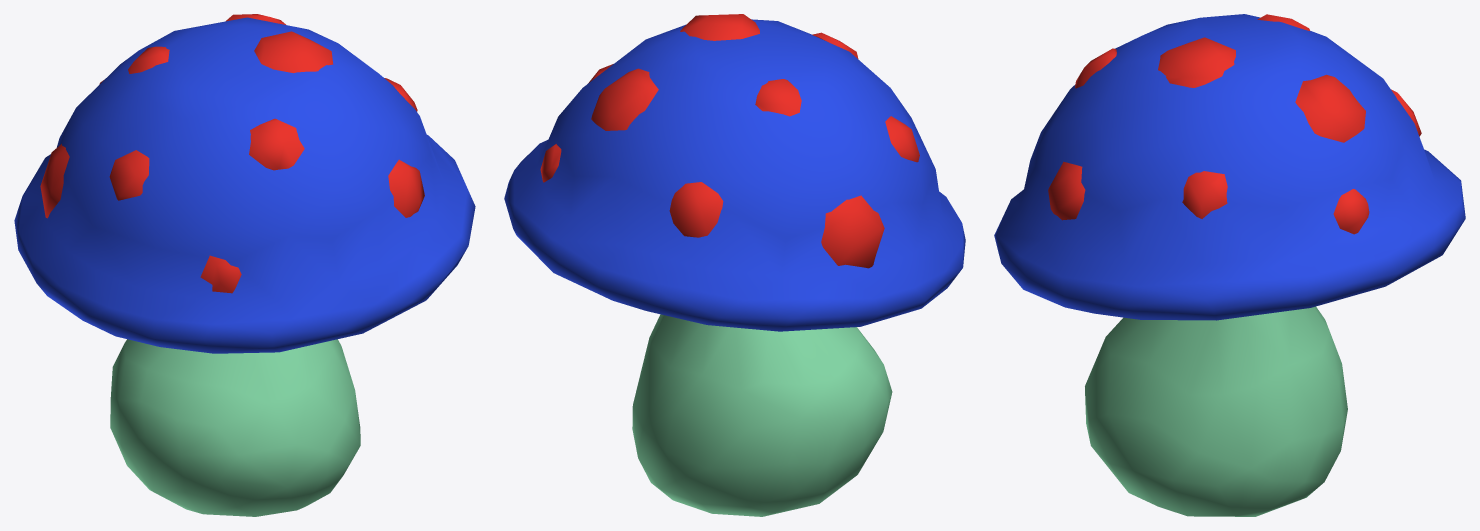
Rendered from Mushroom.fbx.
3 views of the same model, side by side, from view 1: azimuth 30°, elevation 25°; view 2: azimuth 150°, elevation 25°; view 3: azimuth 270°, elevation 25° (orthographic). The views are drawn at different scales.
Parts seen in each view (by area): view 1: Mushroom_Cylinder.001; view 2: Mushroom_Cylinder.001; view 3: Mushroom_Cylinder.001.
Part boxes in pixels (bbox=[...]): Mushroom_Cylinder.001: bbox=[14, 14, 475, 516]; Mushroom_Cylinder.001: bbox=[504, 14, 965, 516]; Mushroom_Cylinder.001: bbox=[994, 14, 1465, 516].
Bounding box in the file's own units: 453 × 483 × 452.
